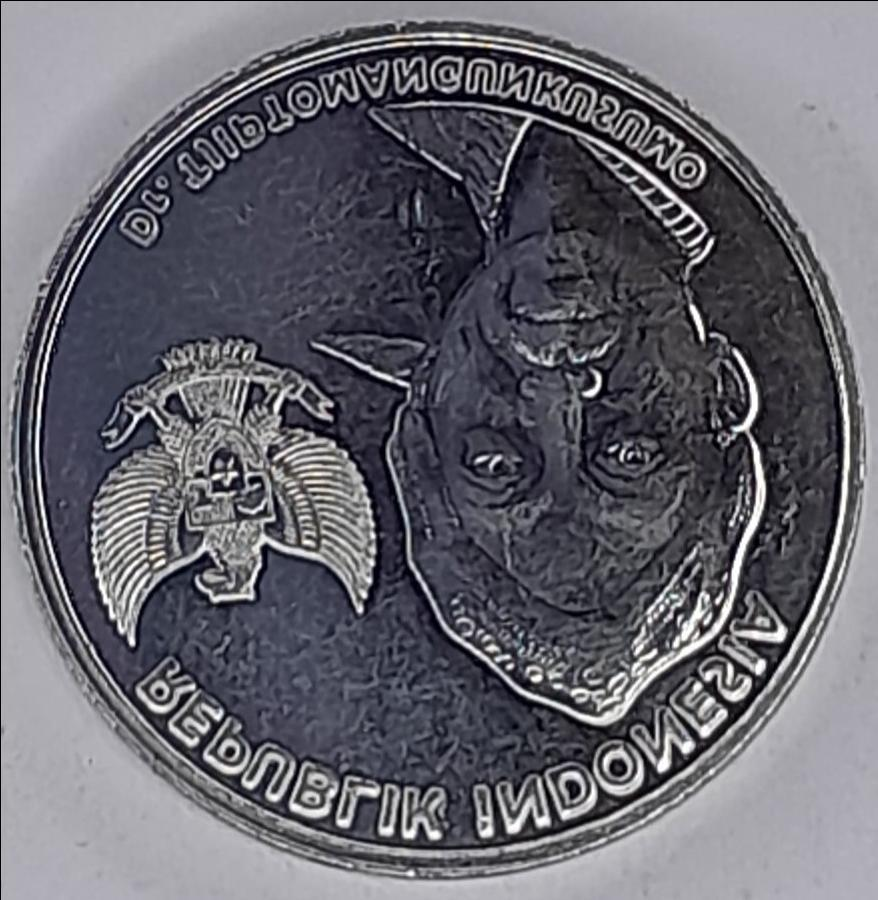coin_200_e2016: (0, 16, 878, 900)
